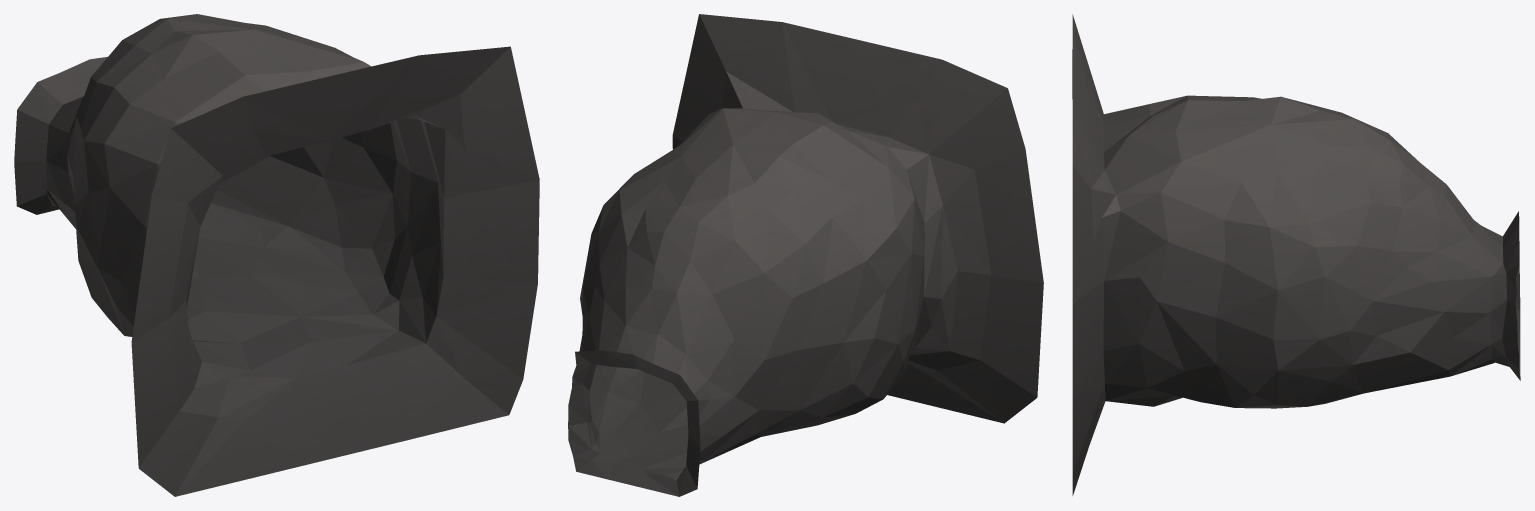
Rendered from ZLP_Cave_A_13.FBX.
The picture shows the model from 3 angles, left to right: view 1: azimuth 30°, elevation 25°; view 2: azimuth 150°, elevation 25°; view 3: azimuth 270°, elevation 25°; orthographic projection. The views are drawn at different scales.
Visible parts, largest first — view 1: ZLP_Cave_A_13; view 2: ZLP_Cave_A_13; view 3: ZLP_Cave_A_13.
Boxes of the visible parts, <box> form: ZLP_Cave_A_13: <box>14,14,539,496</box>; ZLP_Cave_A_13: <box>568,14,1043,496</box>; ZLP_Cave_A_13: <box>1072,14,1520,495</box>.
Size of the model in its own units: 1627 by 1461 by 1712.
